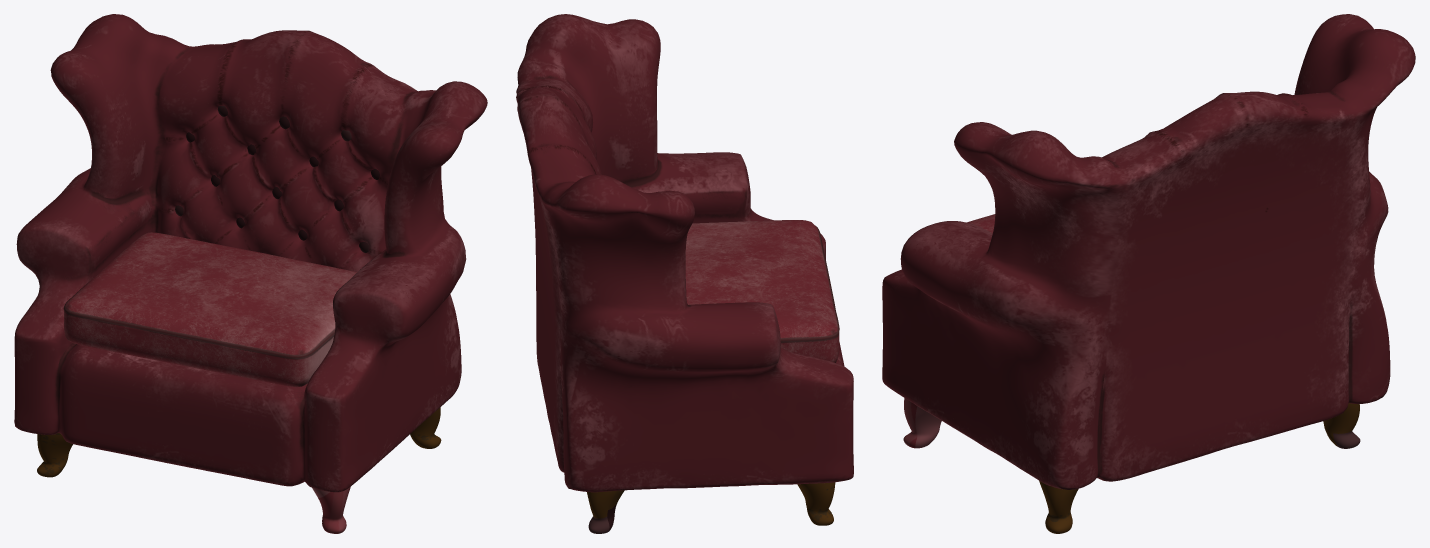
File: sofa-v1.glb
3 renders of one model, left to right at view 1: azimuth 30°, elevation 25°; view 2: azimuth 150°, elevation 25°; view 3: azimuth 270°, elevation 25°, orthographic. The views are drawn at different scales.
Parts seen in each view (by area): view 1: sofa_low, cushion__Low, Sphere001, foot, foot001, foot003; view 2: sofa_low, cushion__Low, foot, foot002; view 3: sofa_low, foot003, foot001, foot002.
Part boxes in pixels (x1,y1,x2,y2): sofa_low: (14, 14, 487, 492); cushion__Low: (63, 232, 357, 387); Sphere001: (175, 106, 379, 252); foot: (37, 433, 72, 477); foot001: (312, 486, 350, 533); foot003: (410, 407, 441, 448); sofa_low: (516, 14, 853, 492); cushion__Low: (685, 220, 839, 362); foot: (797, 482, 835, 525); foot002: (587, 490, 624, 533); sofa_low: (882, 14, 1415, 489); foot003: (1039, 480, 1078, 533); foot001: (903, 398, 941, 448); foot002: (1323, 403, 1360, 448).
Bounding box in the file's own units: 66.19 × 59.09 × 70.06.
2 materials, 2 textured.
